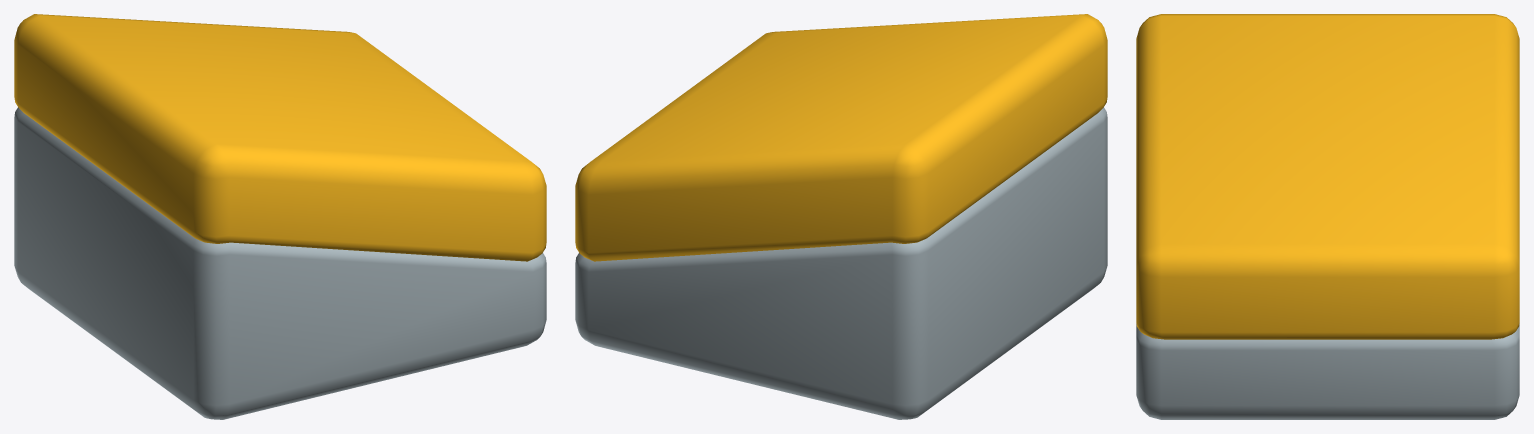
File: tileSlopeLowMedium_teamYellow.glb
3 renders of one model, left to right at view 1: azimuth 30°, elevation 25°; view 2: azimuth 150°, elevation 25°; view 3: azimuth 270°, elevation 25°, orthographic. The views are drawn at different scales.
Parts seen in each view (by area): view 1: tileSlopeLowMedium_teamYellow; view 2: tileSlopeLowMedium_teamYellow; view 3: tileSlopeLowMedium_teamYellow.
Boxes of the visible parts, x1,y1,x2,y2 form: tileSlopeLowMedium_teamYellow: (14,14,546,419); tileSlopeLowMedium_teamYellow: (575,14,1107,419); tileSlopeLowMedium_teamYellow: (1136,14,1519,419).
Bounding box in the file's own units: 0.6 × 0.45 × 0.6.
